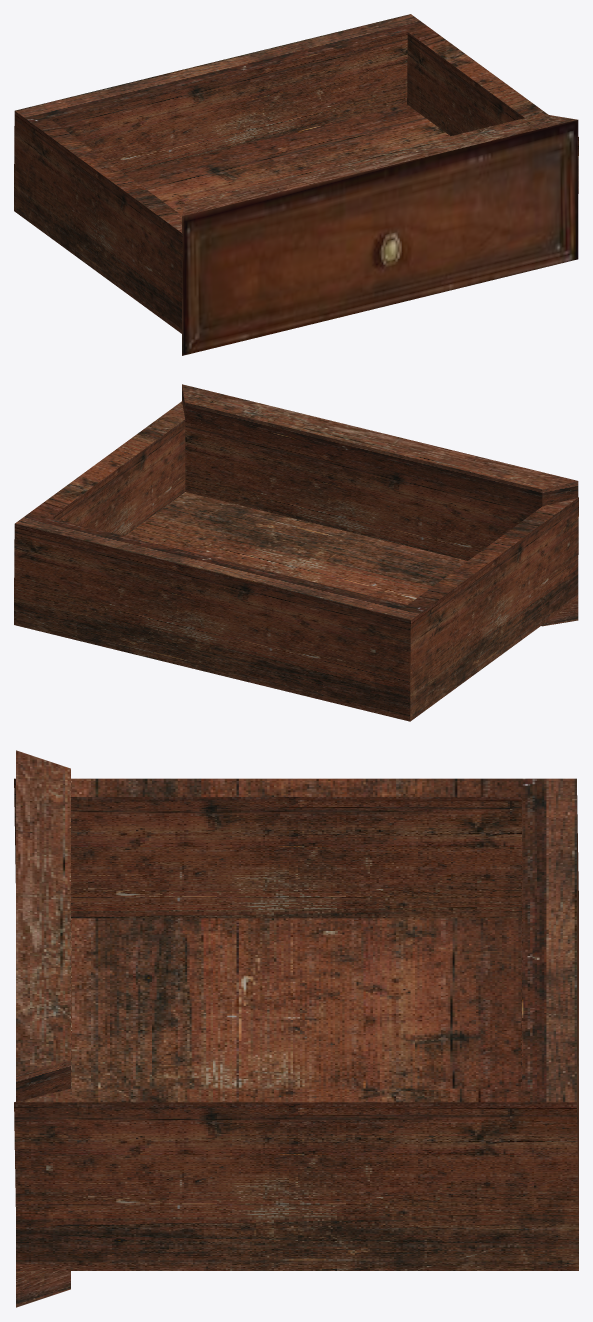
File: drawer.glb
The picture shows the model from 3 angles, top to bottom: view 1: azimuth 30°, elevation 25°; view 2: azimuth 150°, elevation 25°; view 3: azimuth 270°, elevation 25°; orthographic projection. The views are drawn at different scales.
Visible parts, largest first — view 1: drawer; view 2: drawer; view 3: drawer.
Part boxes in pixels (bbox=[...]): drawer: bbox=[14, 14, 578, 355]; drawer: bbox=[14, 384, 578, 721]; drawer: bbox=[14, 750, 578, 1307].
Bounding box in the file's own units: 3.38 × 1.14 × 2.49.
2 materials, 2 textured.
